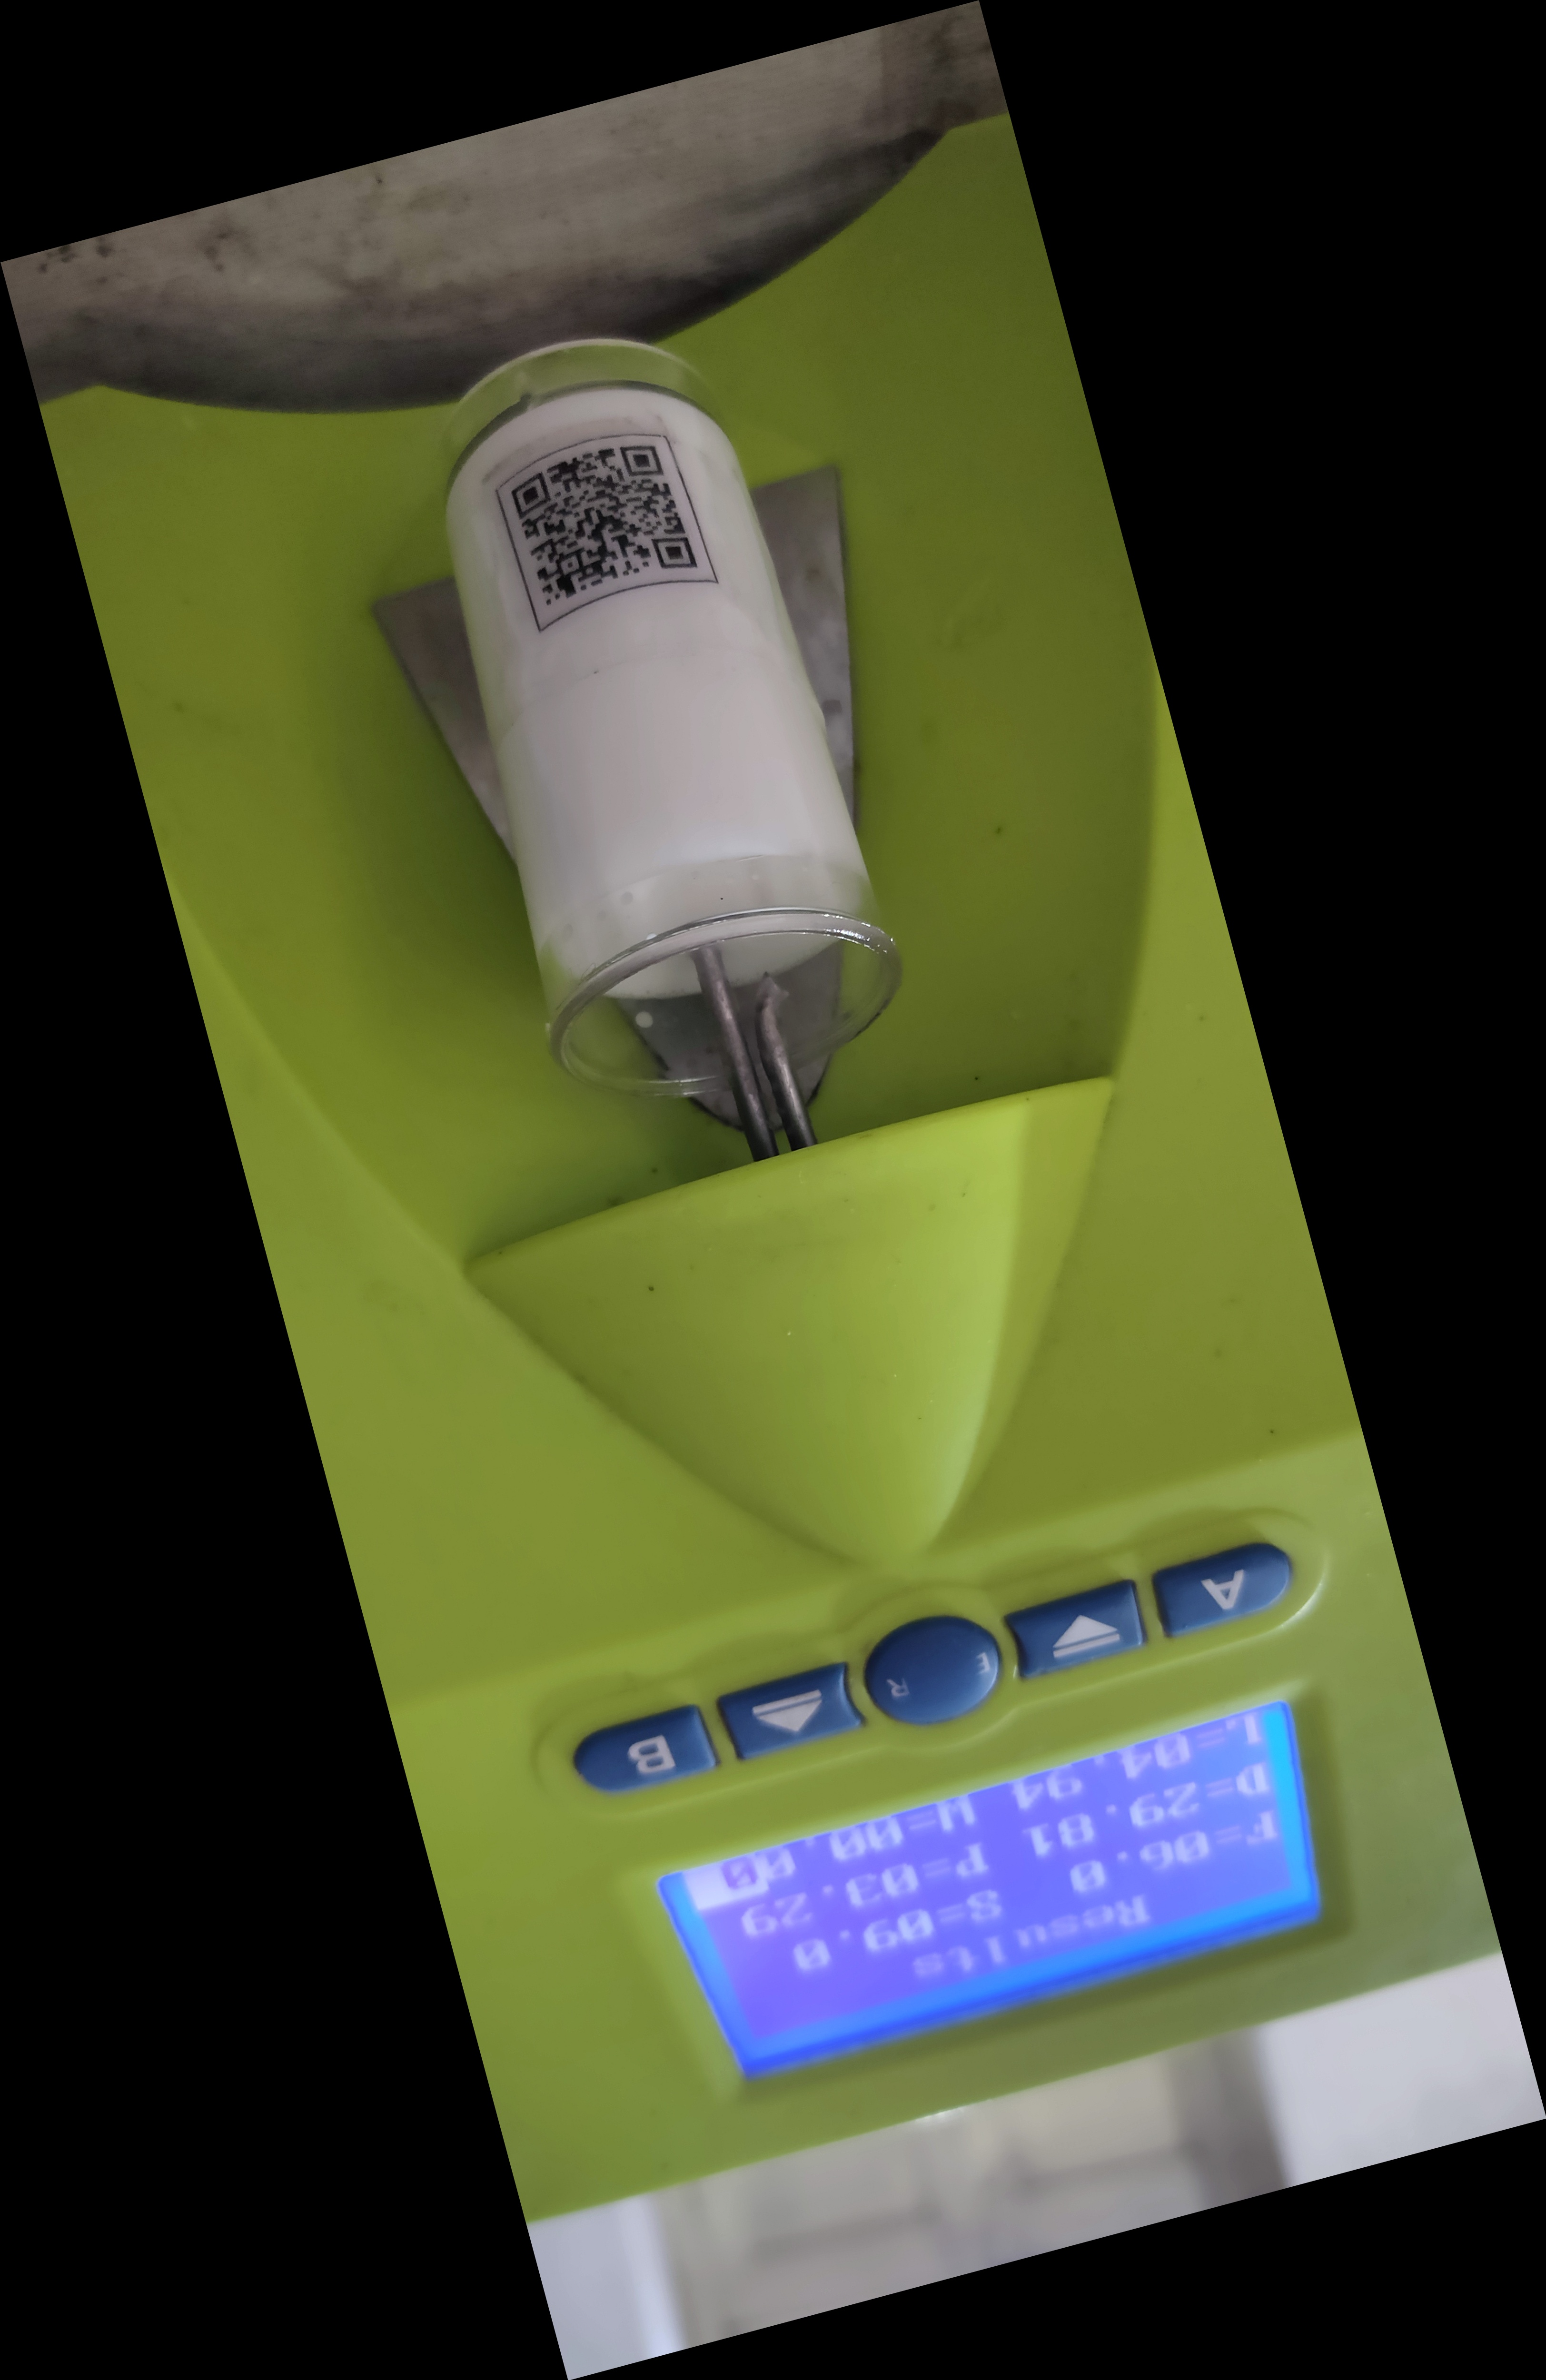lcd: (621, 1681, 1367, 2087)
qr: (486, 413, 734, 673)
